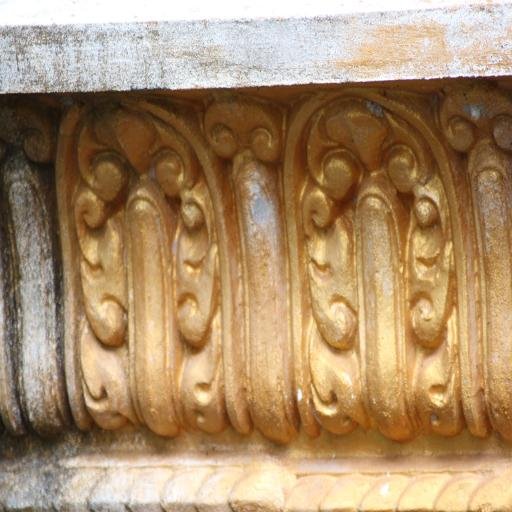la: (282, 90, 471, 441), (59, 101, 227, 441)
